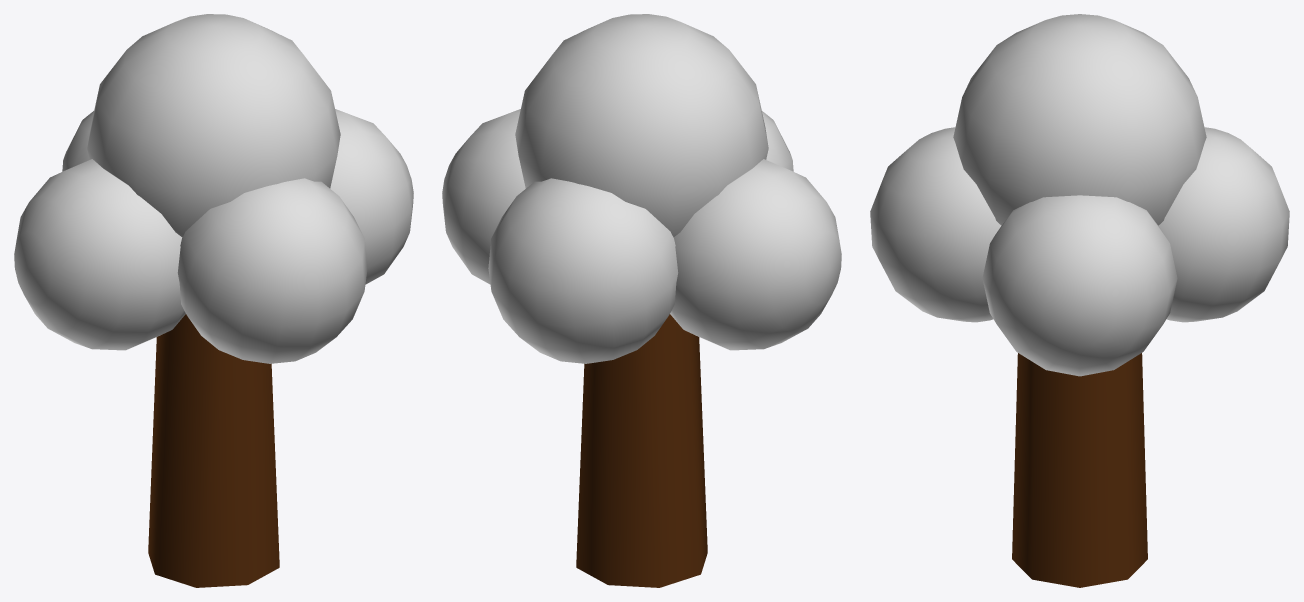
The model's file is Tree.glb.
3 renders of one model, left to right at view 1: azimuth 30°, elevation 25°; view 2: azimuth 150°, elevation 25°; view 3: azimuth 270°, elevation 25°, orthographic.
Visible parts, largest first — view 1: Tree; view 2: Tree; view 3: Tree.
Part boxes in pixels (bbox=[...]): Tree: bbox=[14, 14, 413, 587]; Tree: bbox=[442, 14, 841, 587]; Tree: bbox=[870, 14, 1289, 587].
Bounding box in the file's own units: 5.12 × 6.96 × 4.96.
